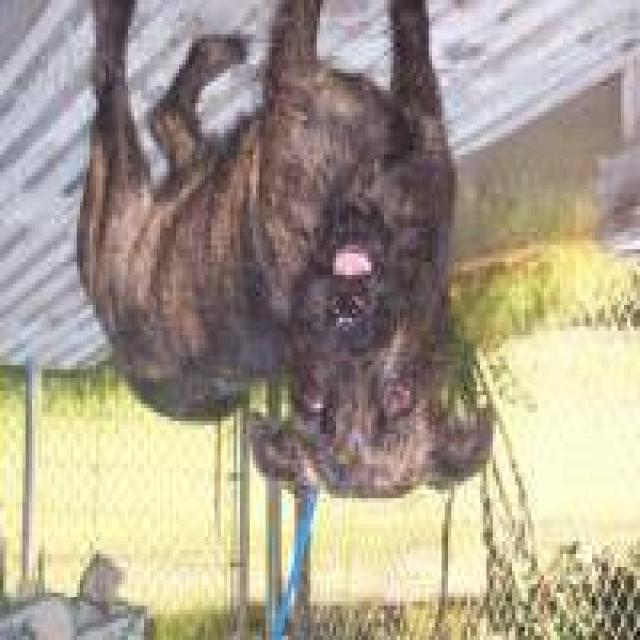dog: (57, 0, 511, 524)
